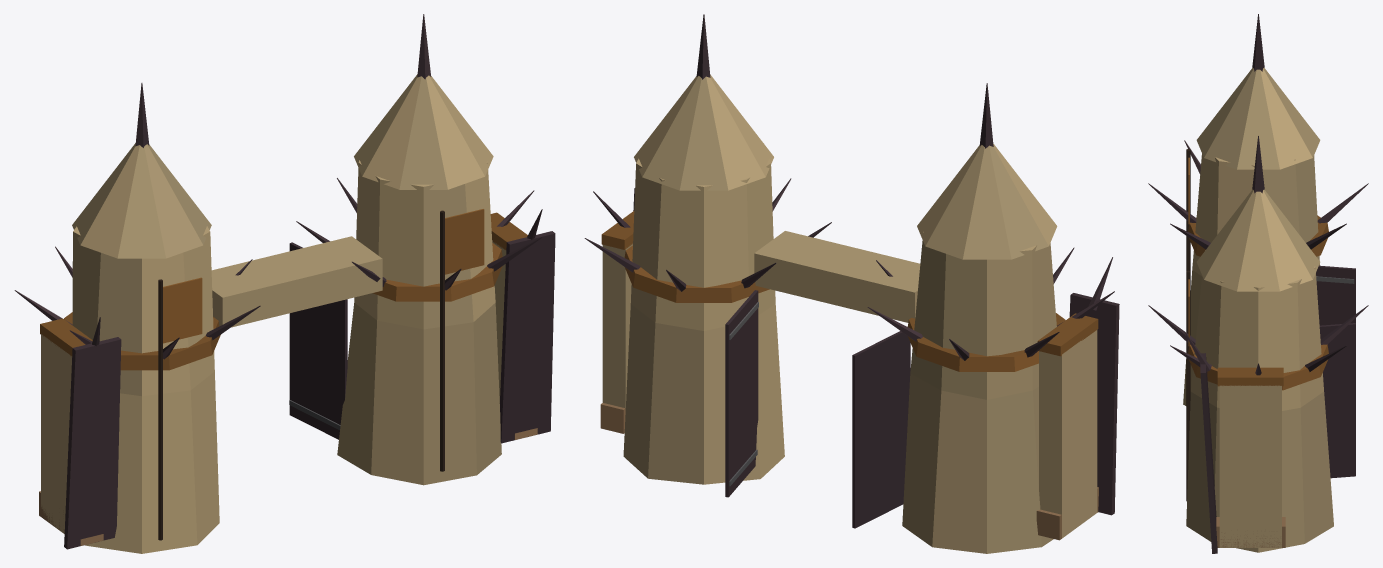
Rendered from walk_hive_gate.glb.
The picture shows the model from 3 angles, left to right: view 1: azimuth 30°, elevation 25°; view 2: azimuth 150°, elevation 25°; view 3: azimuth 270°, elevation 25°; orthographic projection. The views are drawn at different scales.
Visible parts, largest first — view 1: walk_hive_gate, walk_hive_gate_roof, walk_hive_gate_door1; view 2: walk_hive_gate, walk_hive_gate_roof, walk_hive_gate_door0, walk_hive_gate_door1; view 3: walk_hive_gate, walk_hive_gate_roof, walk_hive_gate_door1, walk_hive_gate_door0.
Boxes of the visible parts, x1,y1,x2,y2 form: walk_hive_gate: (14,160,555,553); walk_hive_gate_roof: (72,14,493,258); walk_hive_gate_door1: (289,242,347,439); walk_hive_gate: (584,158,1119,553); walk_hive_gate_roof: (634,14,1057,259); walk_hive_gate_door0: (852,331,910,528); walk_hive_gate_door1: (725,290,758,497); walk_hive_gate: (1148,140,1368,553); walk_hive_gate_roof: (1196,14,1320,291); walk_hive_gate_door1: (1319,323,1355,478); walk_hive_gate_door0: (1316,265,1355,325).
Size of what is drawn, in the model's own units: 12.96 by 10.9 by 5.67.
2 materials, 2 textured.
